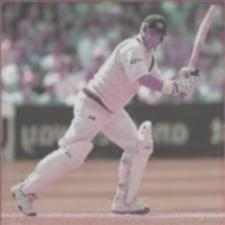batsman: (6, 9, 218, 225)
